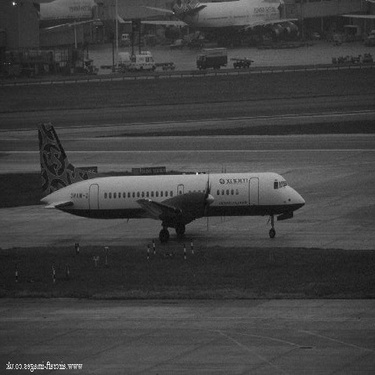airplane: (15, 98, 317, 243), (20, 1, 195, 58), (131, 1, 305, 48)
